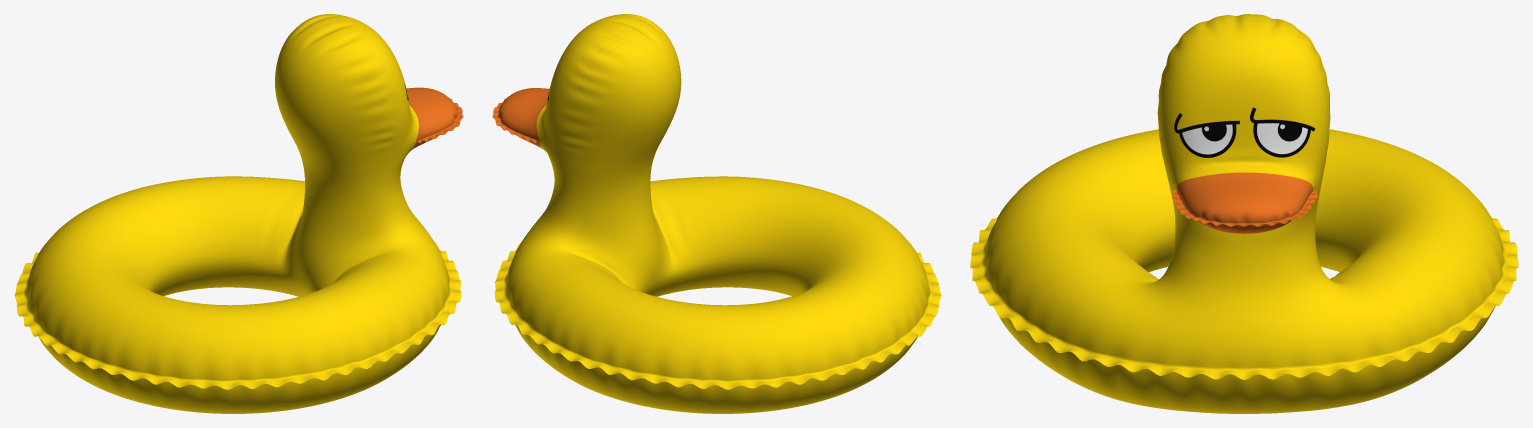
Rendered from rubber_inflatable_duck.glb.
The picture shows the model from 3 angles, left to right: view 1: azimuth 30°, elevation 25°; view 2: azimuth 150°, elevation 25°; view 3: azimuth 270°, elevation 25°; orthographic projection. The views are drawn at different scales.
Visible parts, largest first — view 1: duck_0; view 2: duck_0; view 3: duck_0.
Part boxes in pixels (box(x1,y1,x2,y2)): duck_0: box(14, 14, 463, 413); duck_0: box(492, 14, 941, 413); duck_0: box(970, 14, 1518, 413).
Size of the model in its own units: 4.94 by 3.41 by 4.6.
Materials: 2 (1 with a texture image).
